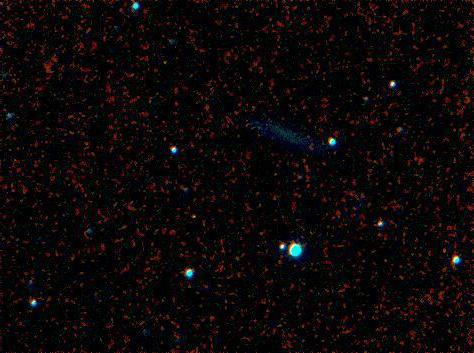star: (176, 208, 206, 238)
